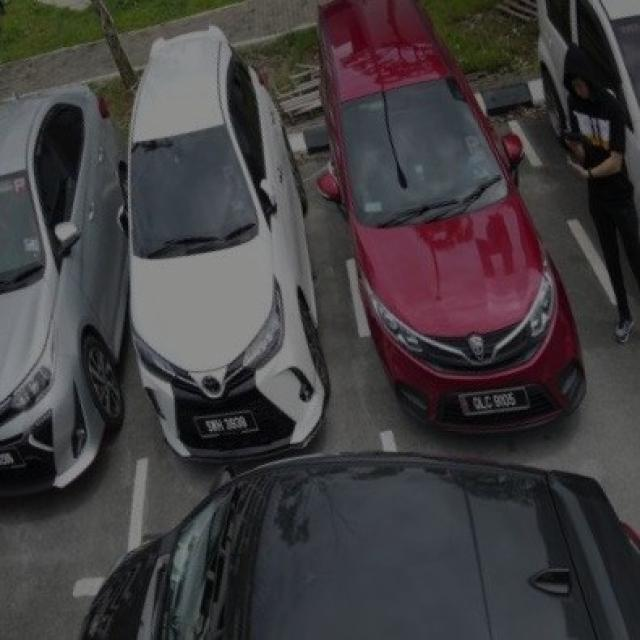Legalparking: (319, 0, 583, 428), (125, 26, 329, 460), (0, 84, 126, 491), (604, 0, 638, 23)
illegalparking: (81, 452, 638, 638)
